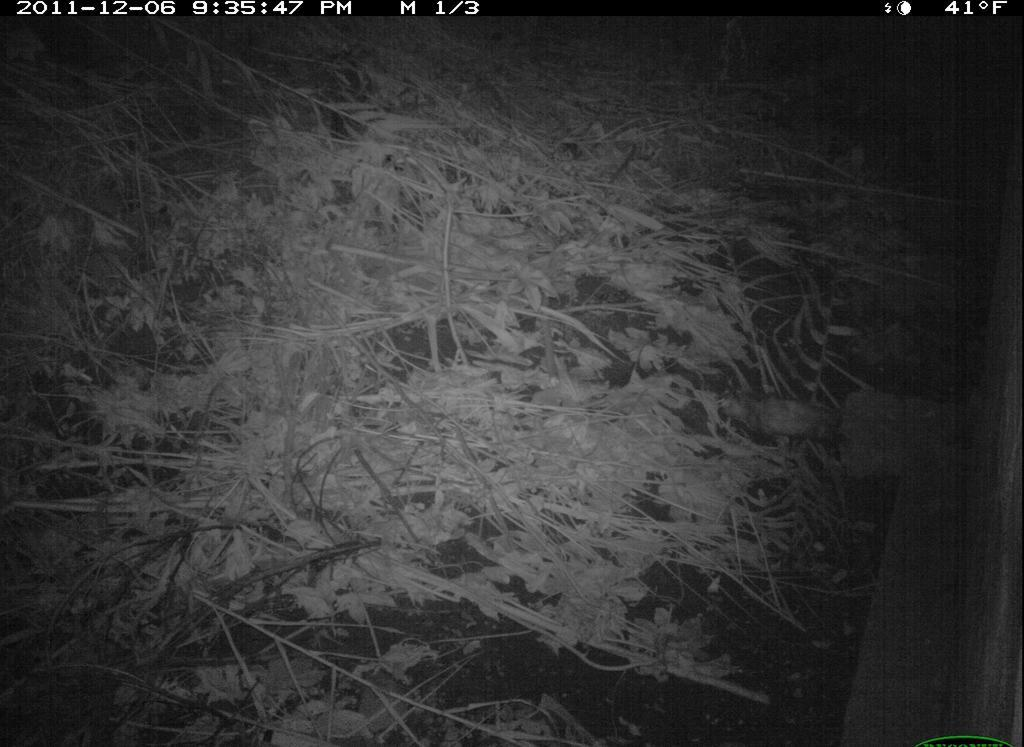opossum: (706, 381, 848, 476)
